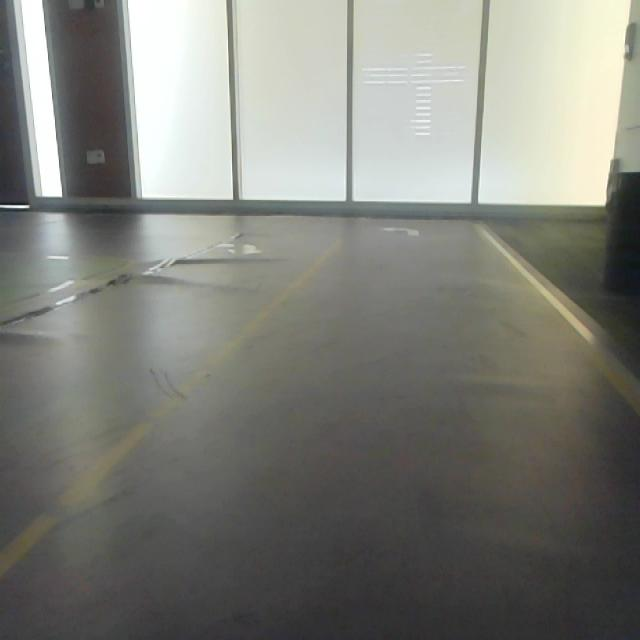left_lane: (0, 241, 335, 579)
right_lane: (482, 228, 640, 410)
